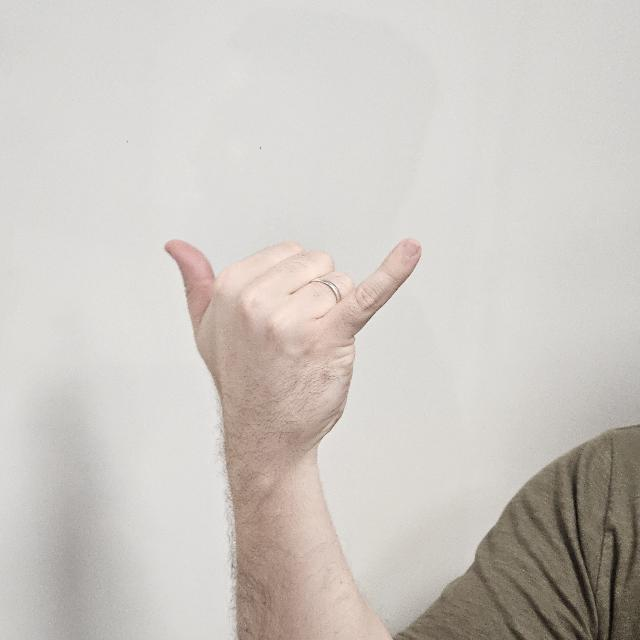Direita: (156, 197, 422, 477)
